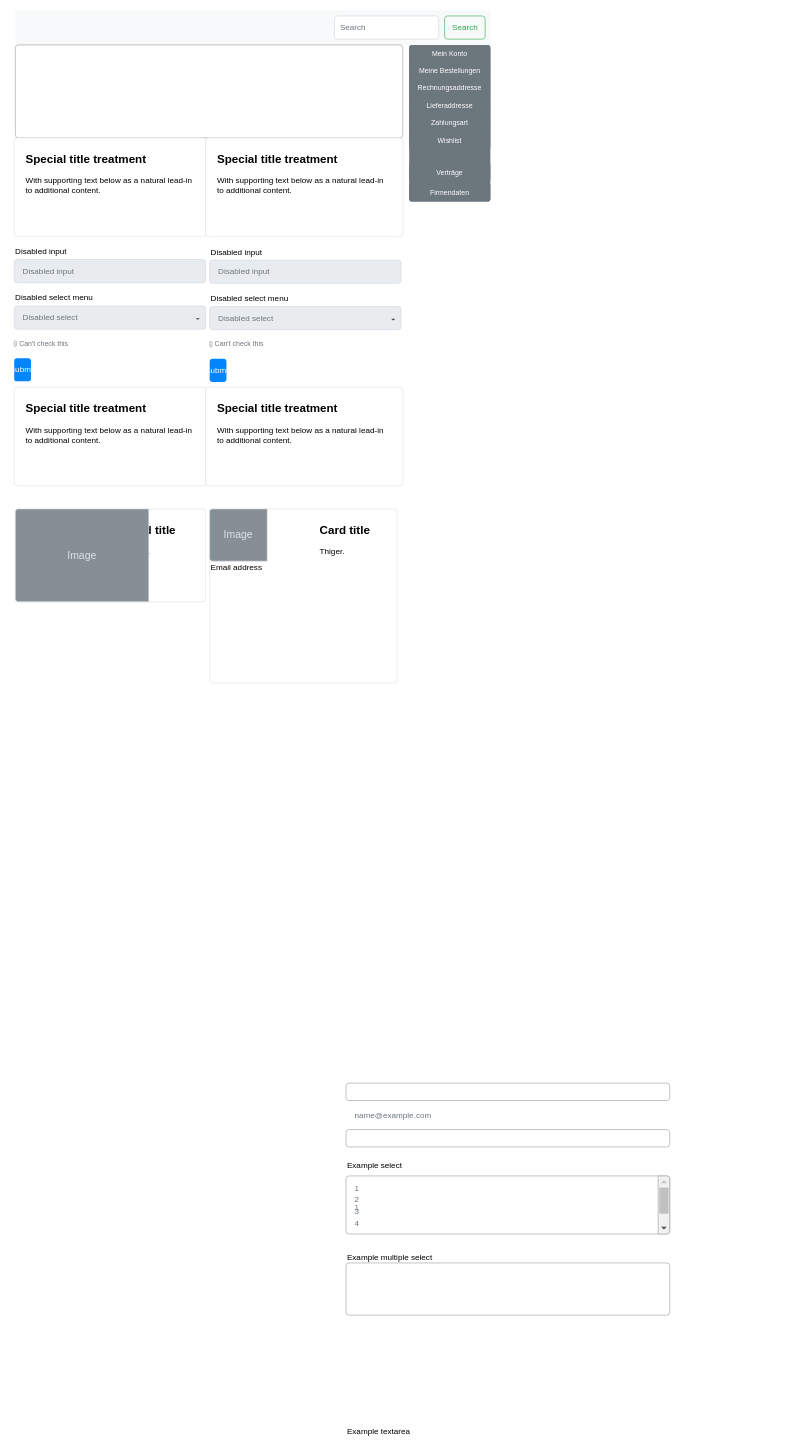
Some shapes in this 809 by 1446 pixel diagram are drawn without their labels. The centre of each missing label's shape, as x and y in pixels:
Hi du da schön dass du da bist!: pixel 209 91
Navbar: pixel 253 27
